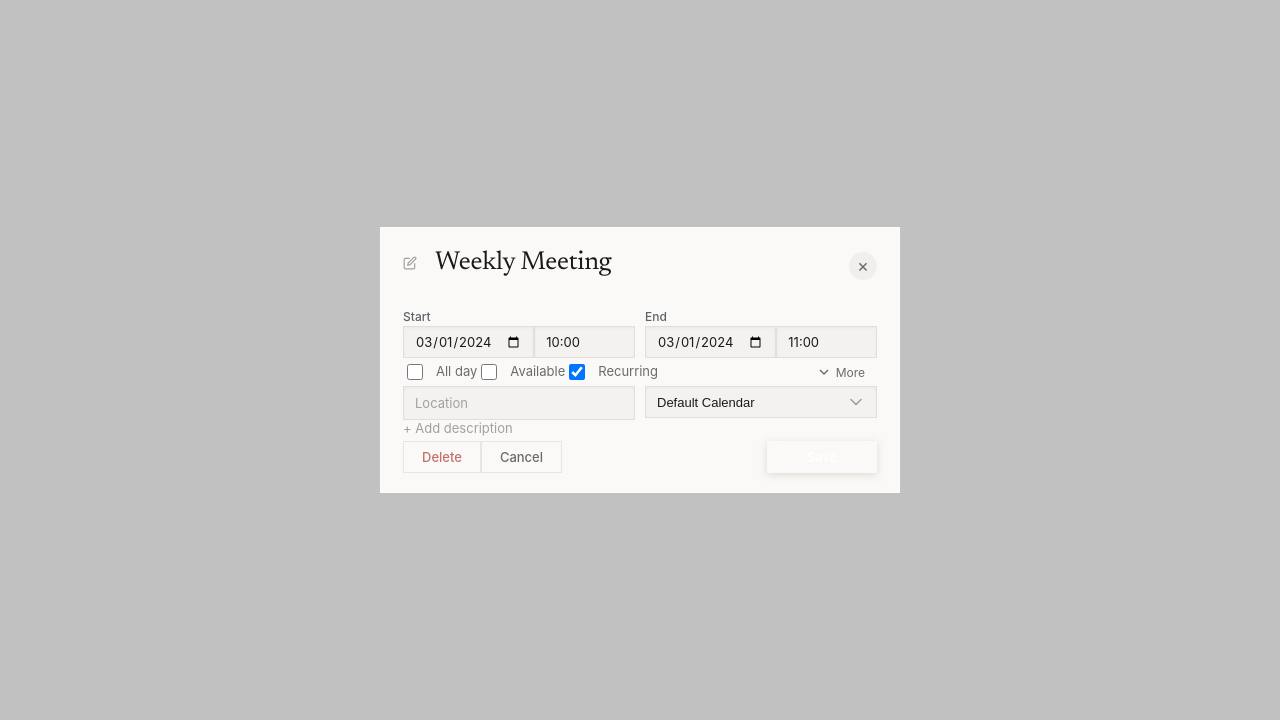
Test case: EventModal › hasChanges with recurrence › pre-populates recurrence data when editing a recurring event
Expected: the checkbox labelled "Recurring" is checked, [569, 364, 585, 380]
Note: Click More to open the recurrence panel
Click the button "More" at x=840, y=372, box [804, 358, 877, 386]
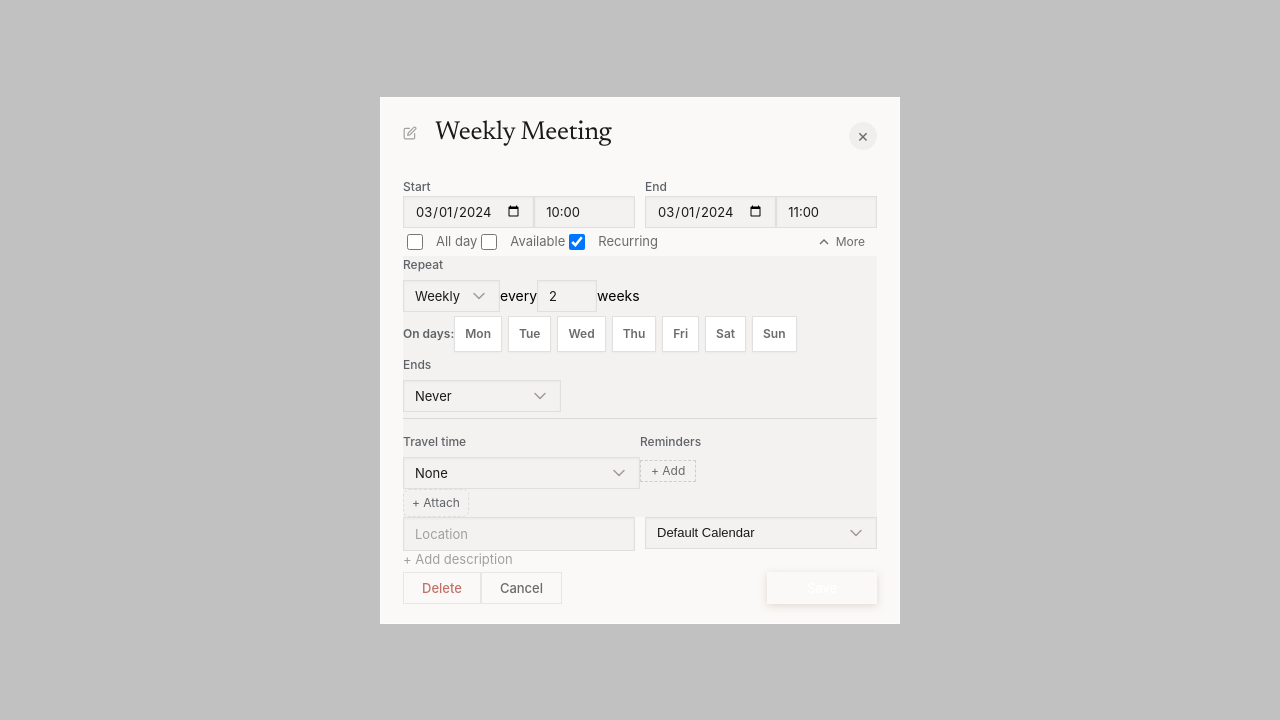
Expected: the dropdown labelled "Repeat" shows "Weekly", [403, 280, 500, 312]
